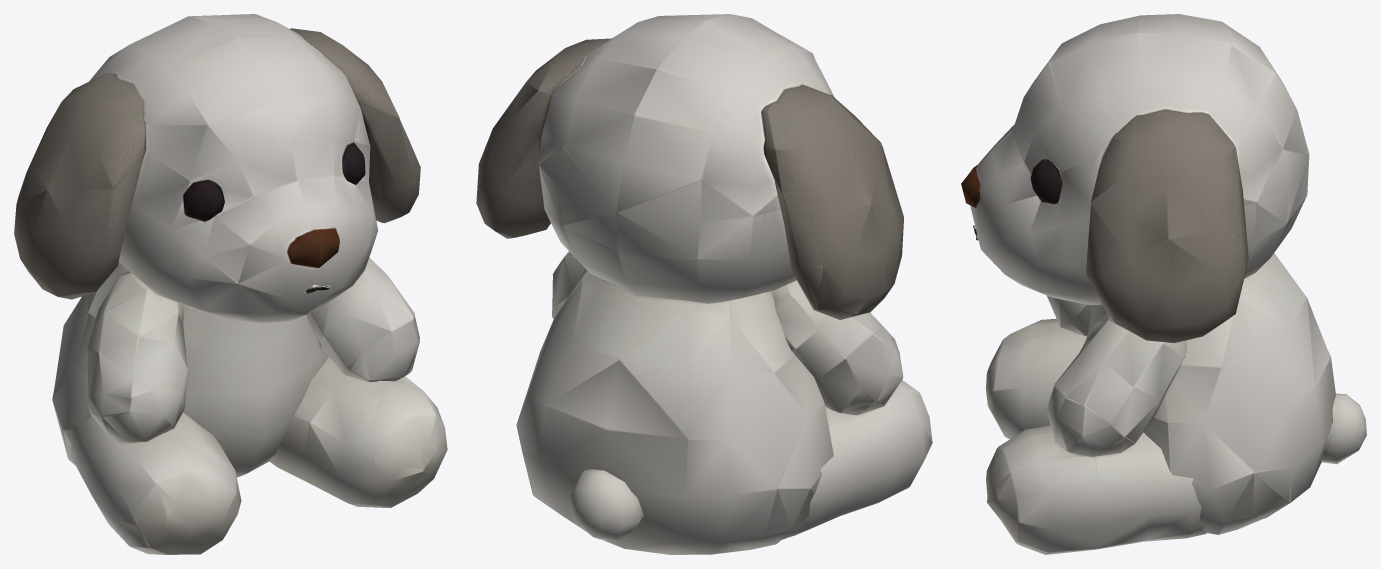
Rendered from 레벨1_기훈이의 뽀삐인형.glb.
3 renders of one model, left to right at view 1: azimuth 30°, elevation 25°; view 2: azimuth 150°, elevation 25°; view 3: azimuth 270°, elevation 25°, orthographic. The views are drawn at different scales.
Parts seen in each view (by area): view 1: tripo_node_eddb3c9c-c984-47e3-9423-0a2a03e125ad; view 2: tripo_node_eddb3c9c-c984-47e3-9423-0a2a03e125ad; view 3: tripo_node_eddb3c9c-c984-47e3-9423-0a2a03e125ad.
Boxes of the visible parts, bbox=[...] form: tripo_node_eddb3c9c-c984-47e3-9423-0a2a03e125ad: bbox=[14, 14, 447, 554]; tripo_node_eddb3c9c-c984-47e3-9423-0a2a03e125ad: bbox=[476, 14, 932, 554]; tripo_node_eddb3c9c-c984-47e3-9423-0a2a03e125ad: bbox=[961, 14, 1366, 554].
Bounding box in the file's own units: 0.8613 × 0.998 × 0.7988.
1 material, 1 textured.
